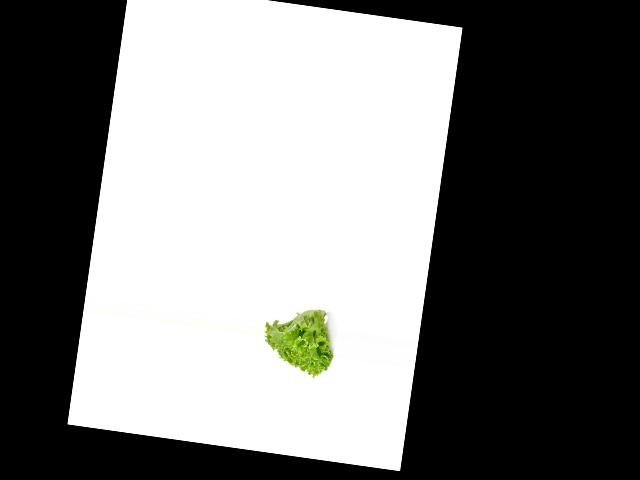lettuce: (256, 297, 339, 383)
